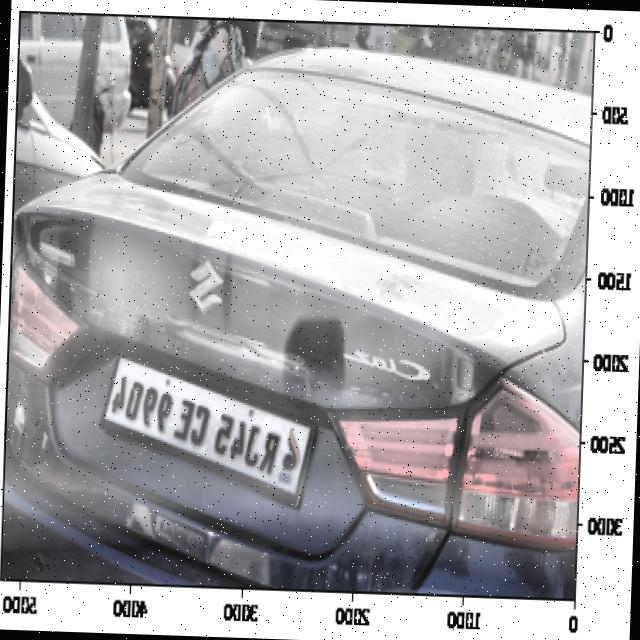license_plate: (106, 370, 285, 474)
